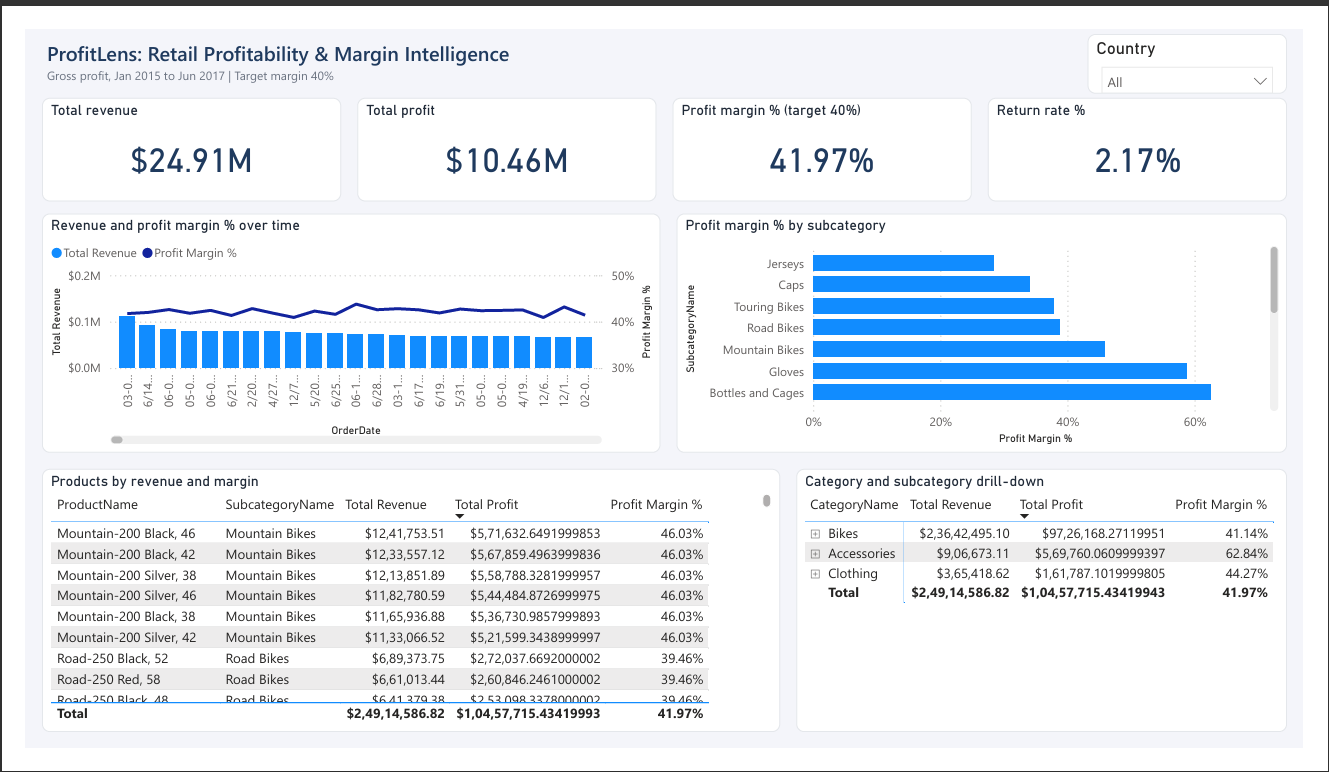

Layout of this report page (visuals, bound fields, positions):
{"tool":"powerbi","page":{"name":"Page 1","canvas":[1280,720],"ordinal":0},"visuals":[{"type":"cardVisual","fields":{"Data":["_Measures.Total Revenue"]},"box":[10,58,190,152],"z":0},{"type":"cardVisual","fields":{"Data":["_Measures.Total Profit"]},"box":[200,58,190,152],"z":1000},{"type":"cardVisual","fields":{"Data":["_Measures.Profit Margin %"]},"box":[390,60,172,150],"z":2000},{"type":"cardVisual","fields":{"Data":["_Measures.Return Rate %"]},"box":[586,60,160,150],"z":3000},{"type":"pivotTable","fields":{"Rows":["AdventureWorks_Product_Categories.CategoryName","AdventureWorks_Product_Subcategories.SubcategoryName"],"Values":["_Measures.Total Revenue","_Measures.Total Profit","_Measures.Profit Margin %"]},"box":[774,540,506,130],"z":4000},{"type":"lineStackedColumnComboChart","fields":{"Category":["Fact_Sales.OrderDate"],"Y":["_Measures.Total Revenue"],"Y2":["_Measures.Profit Margin %"]},"box":[764,94,502,418],"z":5000},{"type":"slicer","fields":{"Values":["AdventureWorks_Territories.Country"]},"box":[1150,26,116,68],"z":6000},{"type":"tableEx","fields":{"Values":["AdventureWorks_Products.ProductName","AdventureWorks_Product_Subcategories.SubcategoryName","_Measures.Total Revenue","_Measures.Total Profit","_Measures.Profit Margin %"]},"box":[28,210,736,510],"z":7000}]}

Visuals, with their boxes on the page's 1280x720 design canvas (x1, y1, x2, y2). These are canvas units, not pixel positions in the 1329x772 screenshot, which may show the page scaled, cropped or inside an application window:
cardVisual - _Measures.Total Revenue: select_region(10, 58, 200, 210)
cardVisual - _Measures.Total Profit: select_region(200, 58, 390, 210)
cardVisual - _Measures.Profit Margin %: select_region(390, 60, 562, 210)
cardVisual - _Measures.Return Rate %: select_region(586, 60, 746, 210)
pivotTable - AdventureWorks_Product_Categories.CategoryName x AdventureWorks_Product_Subcategories.SubcategoryName: select_region(774, 540, 1280, 670)
lineStackedColumnComboChart - Fact_Sales.OrderDate x _Measures.Total Revenue: select_region(764, 94, 1266, 512)
slicer - AdventureWorks_Territories.Country: select_region(1150, 26, 1266, 94)
tableEx - AdventureWorks_Products.ProductName x AdventureWorks_Product_Subcategories.SubcategoryName: select_region(28, 210, 764, 720)
